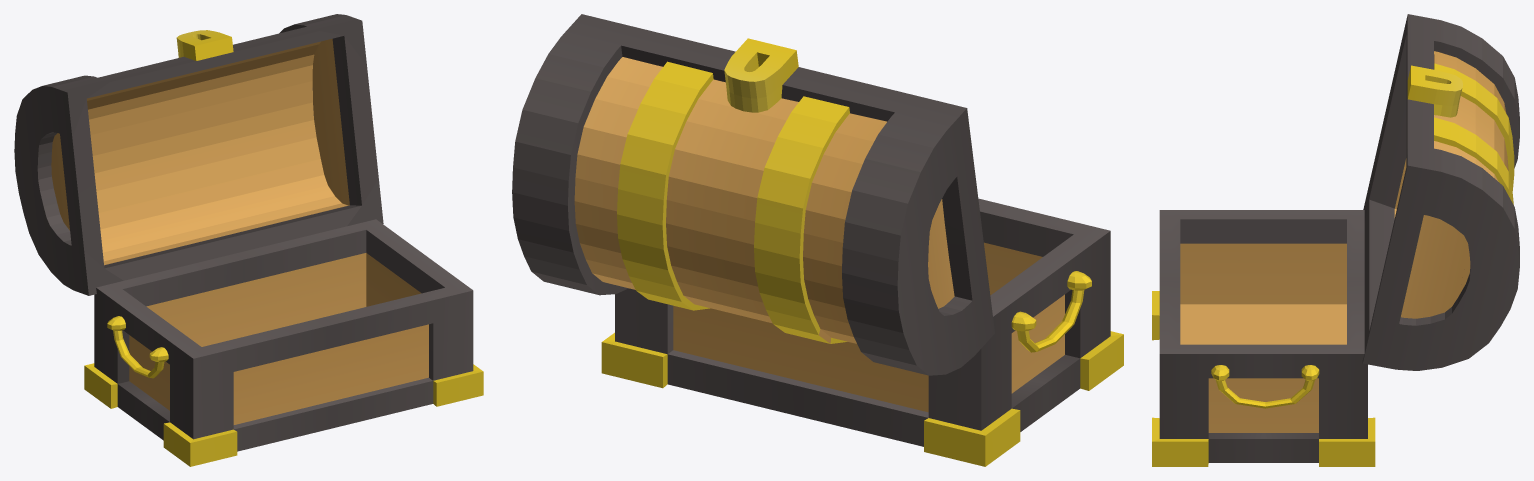
The model's file is Safe Chest 3.opened.fbx.
3 views of the same model, side by side, from view 1: azimuth 30°, elevation 25°; view 2: azimuth 150°, elevation 25°; view 3: azimuth 270°, elevation 25° (orthographic). The views are drawn at different scales.
Parts seen in each view (by area): view 1: Safe Chest 3.opened; view 2: Safe Chest 3.opened; view 3: Safe Chest 3.opened.
Part boxes in pixels (x1,y1,x2,y2): Safe Chest 3.opened: (14, 14, 483, 466); Safe Chest 3.opened: (512, 14, 1123, 466); Safe Chest 3.opened: (1152, 14, 1519, 466).
Size of the model in its own units: 107 by 99.7 by 105.
